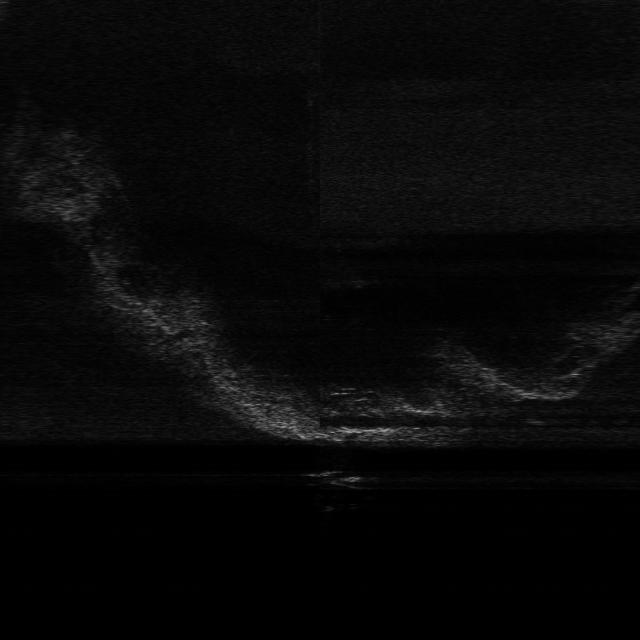plane: (300, 467, 386, 491)
